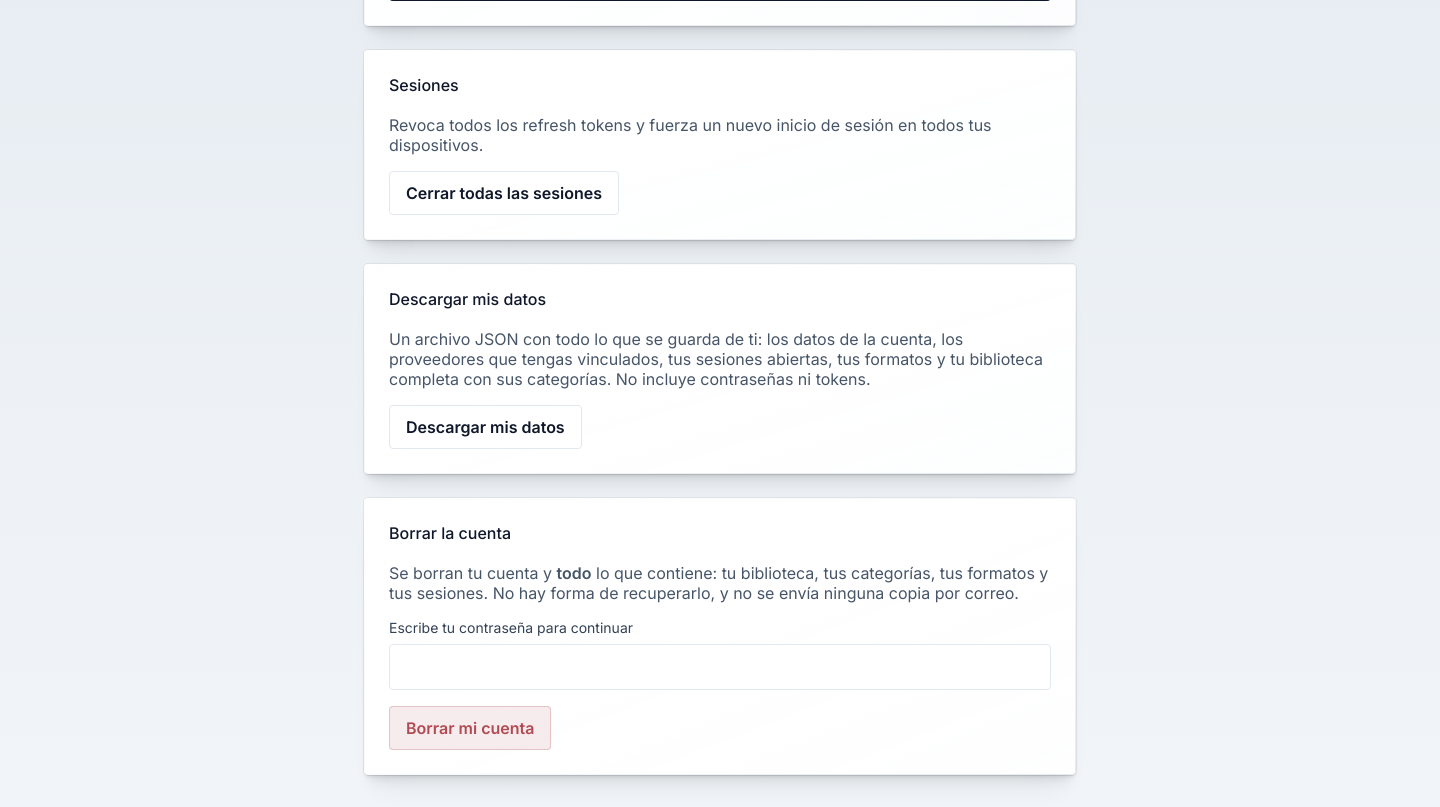
ProfileView › downloads the personal data file and revokes the object URL
(page scrolled)
Click the button "Descargar mis datos".
click(485, 427)  # box [389,405,582,449]
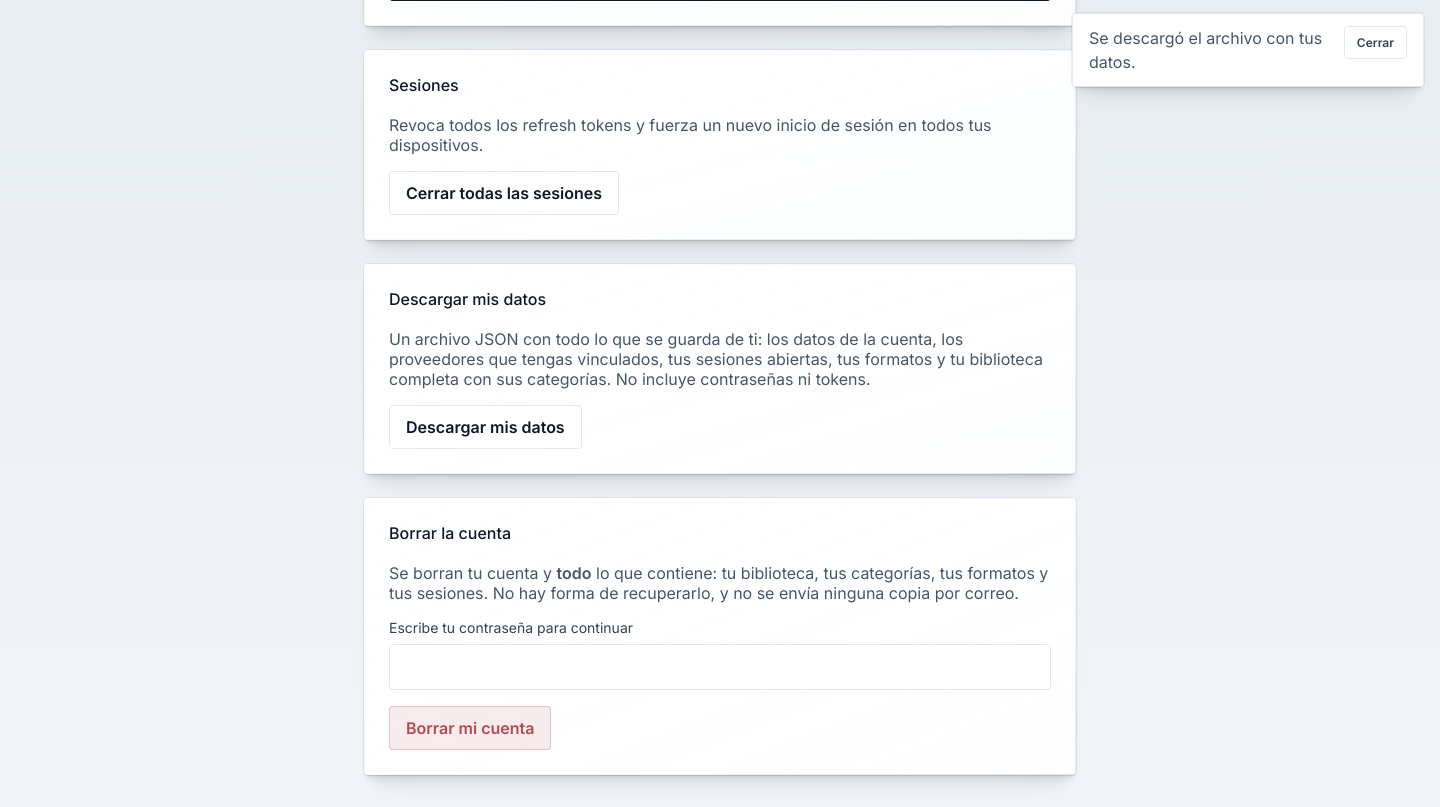
Now the text "Se descargó el archivo con tus datos." is shown, box [1089,26,1332,74]
